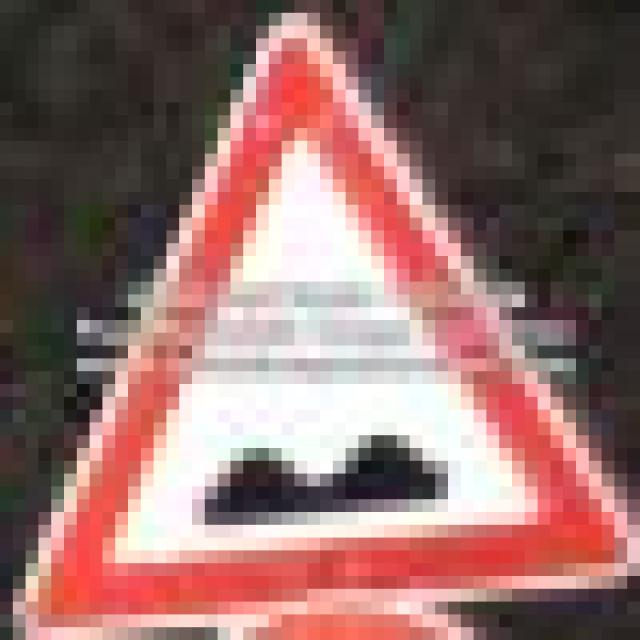HUMP_OR_ROUGH_ROAD: (13, 0, 627, 602)
